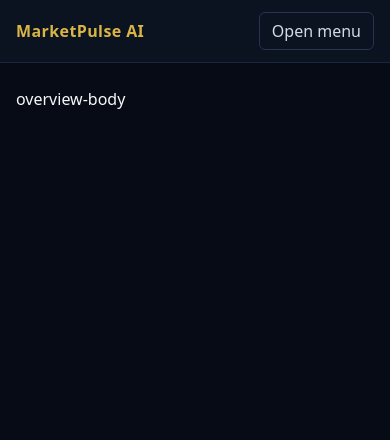
Scenario: AppShell keyboard navigation › toggles the responsive menu with aria-expanded and closes on Escape
Click the button "Open menu" at (316, 31), box [259,12,374,50]
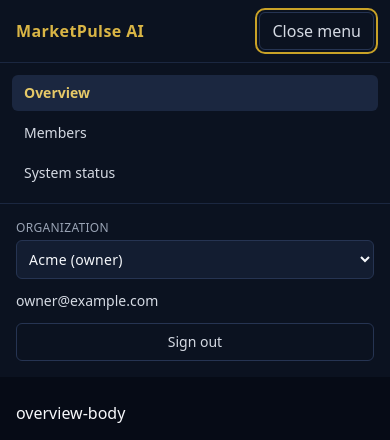
Expected: the button named "Open menu" is expanded, [260,12,374,50]
Press Escape
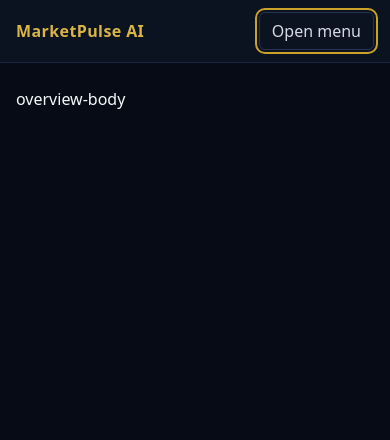
Expected: the button "Open menu" is collapsed, [259,12,374,50]
